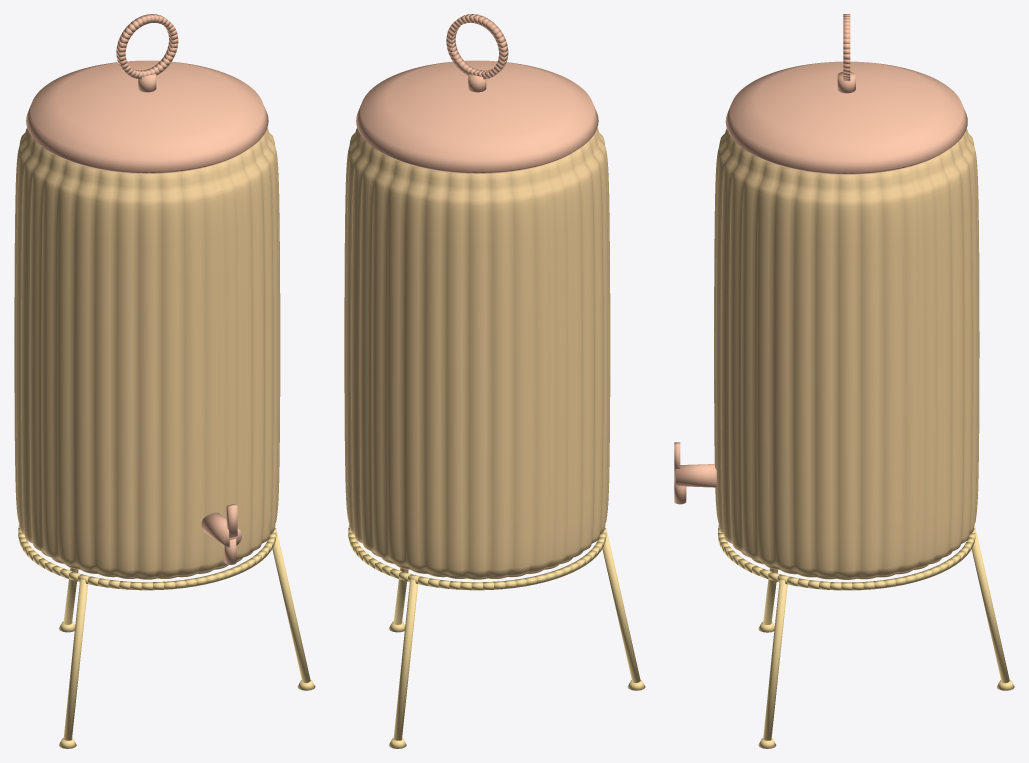
File: dispenser.glb
3 views of the same model, side by side, from view 1: azimuth 30°, elevation 25°; view 2: azimuth 150°, elevation 25°; view 3: azimuth 270°, elevation 25° (orthographic).
Parts seen in each view (by area): view 1: dispenser_Glass, dispenser_Lid, dispenser_Stand, dispenser_Lid2, dispenser_Tap; view 2: dispenser_Glass, dispenser_Lid, dispenser_Stand, dispenser_Lid2; view 3: dispenser_Glass, dispenser_Lid, dispenser_Stand, dispenser_Tap, dispenser_Lid2.
Part boxes in pixels (left/top/right/bottom): dispenser_Glass: left=14, top=128, right=280, bottom=579; dispenser_Lid: left=26, top=60, right=268, bottom=173; dispenser_Stand: left=18, top=525, right=315, bottom=748; dispenser_Lid2: left=116, top=14, right=178, bottom=92; dispenser_Tap: left=201, top=504, right=241, bottom=564; dispenser_Glass: left=344, top=128, right=610, bottom=579; dispenser_Lid: left=356, top=60, right=598, bottom=173; dispenser_Stand: left=348, top=525, right=645, bottom=748; dispenser_Lid2: left=446, top=14, right=508, bottom=92; dispenser_Glass: left=714, top=129, right=979, bottom=579; dispenser_Lid: left=725, top=61, right=967, bottom=174; dispenser_Stand: left=718, top=525, right=1014, bottom=748; dispenser_Tap: left=674, top=442, right=716, bottom=504; dispenser_Lid2: left=837, top=14, right=855, bottom=93.
Size of the model in its own units: 0.1939 by 0.4882 by 0.225.
